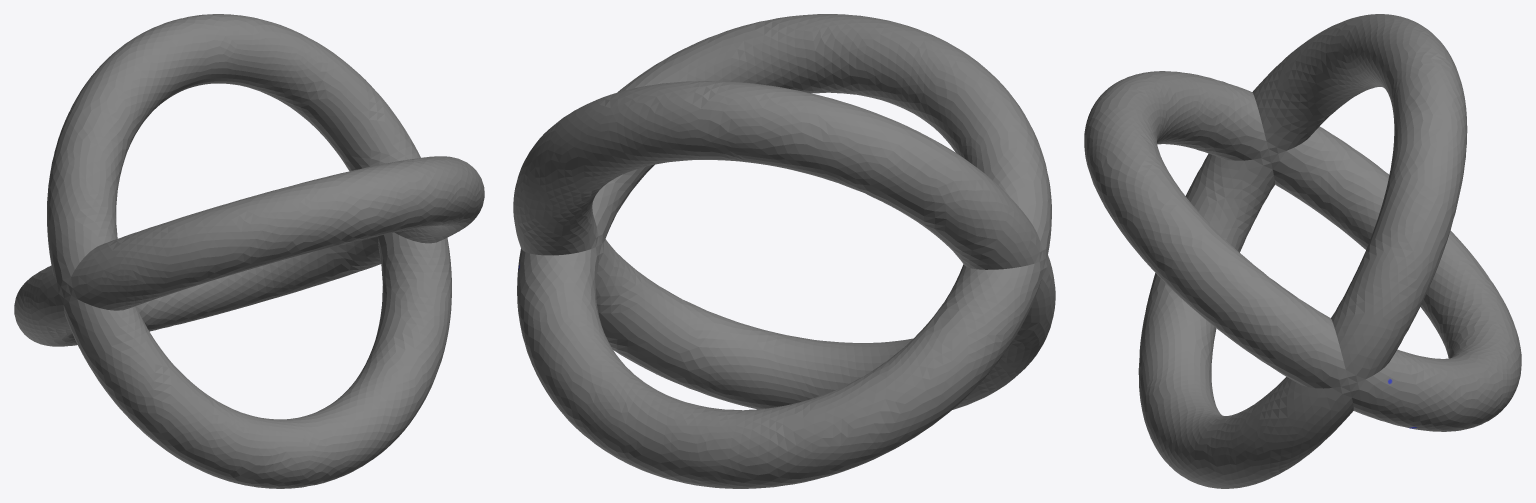
Rendered from file_pack.glb.
The picture shows the model from 3 angles, left to right: view 1: azimuth 30°, elevation 25°; view 2: azimuth 150°, elevation 25°; view 3: azimuth 270°, elevation 25°; orthographic projection. The views are drawn at different scales.
Parts seen in each view (by area): view 1: node_id3; view 2: node_id3; view 3: node_id3.
Boxes of the visible parts, x1,y1,x2,y2 form: node_id3: (14,14,484,488); node_id3: (513,14,1055,488); node_id3: (1084,14,1521,488).
Bounding box in the file's own units: 1.21 × 1.04 × 1.03.
Materials: 1 (1 with a texture image).
